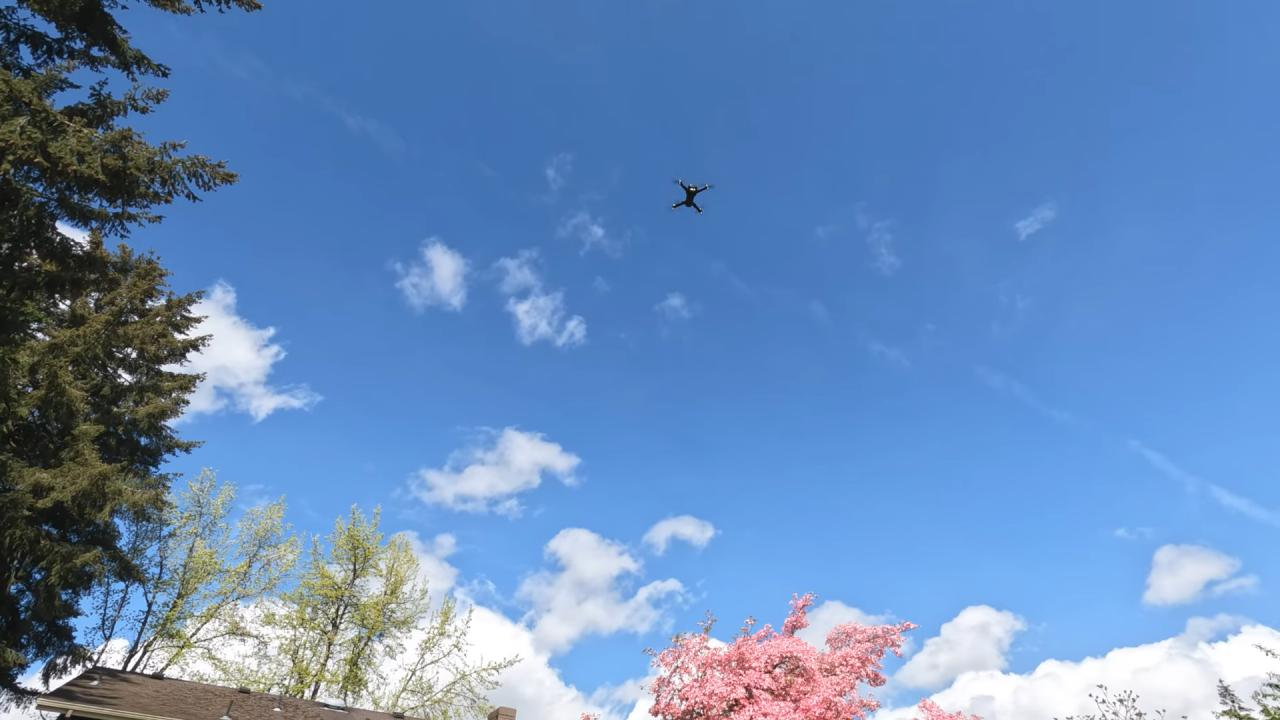Drone: (658, 166, 719, 229)
